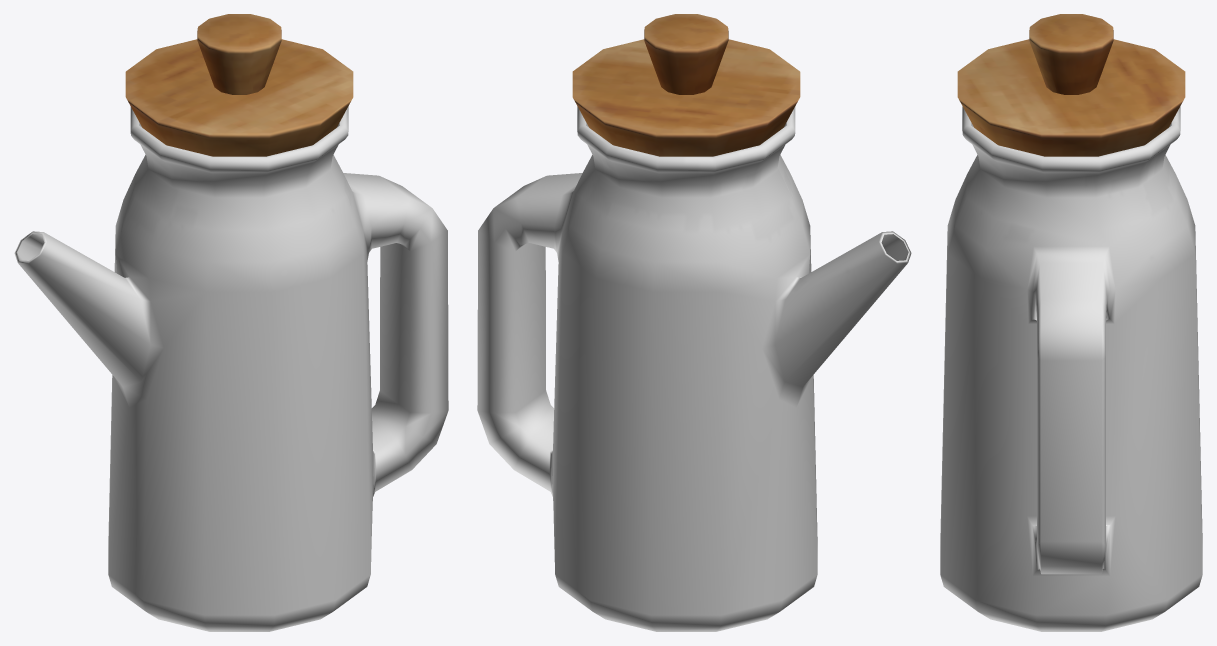
File: pi_vinegar01.gltf
3 views of the same model, side by side, from view 1: azimuth 30°, elevation 25°; view 2: azimuth 150°, elevation 25°; view 3: azimuth 270°, elevation 25° (orthographic).
Visible parts, largest first — view 1: pi_vinegar01_outside01_mesh_shape:pi_vinegar01_glass, pi_vinegar01_lid01_mesh_shape:pi_vinegar01_lid; view 2: pi_vinegar01_outside01_mesh_shape:pi_vinegar01_glass, pi_vinegar01_lid01_mesh_shape:pi_vinegar01_lid; view 3: pi_vinegar01_outside01_mesh_shape:pi_vinegar01_glass, pi_vinegar01_lid01_mesh_shape:pi_vinegar01_lid.
Part boxes in pixels (left/top/right/bottom): pi_vinegar01_outside01_mesh_shape:pi_vinegar01_glass: left=14, top=106, right=448, bottom=631; pi_vinegar01_lid01_mesh_shape:pi_vinegar01_lid: left=125, top=14, right=353, bottom=156; pi_vinegar01_outside01_mesh_shape:pi_vinegar01_glass: left=477, top=106, right=911, bottom=631; pi_vinegar01_lid01_mesh_shape:pi_vinegar01_lid: left=572, top=14, right=800, bottom=156; pi_vinegar01_outside01_mesh_shape:pi_vinegar01_glass: left=940, top=106, right=1202, bottom=631; pi_vinegar01_lid01_mesh_shape:pi_vinegar01_lid: left=957, top=14, right=1185, bottom=156.
Size of the model in its own units: 0.1722 by 0.2193 by 0.0942.
Materials: 3 (3 with a texture image).
